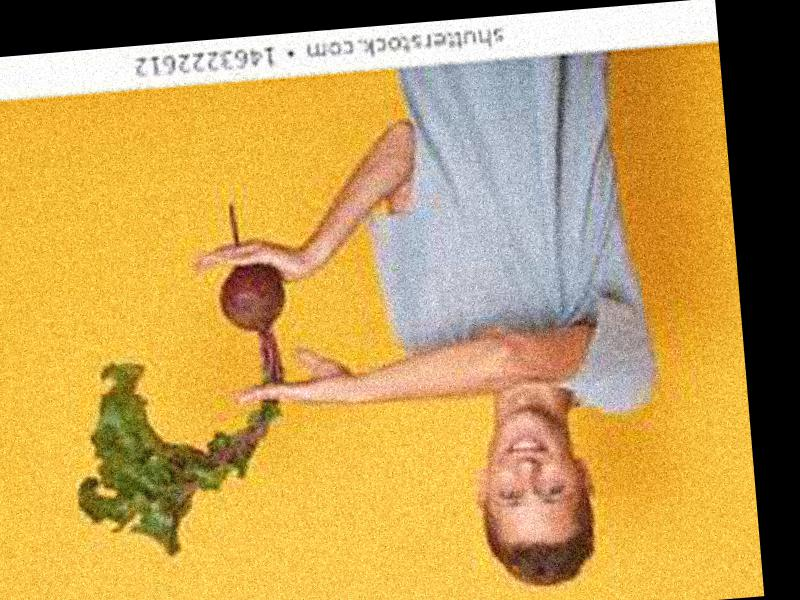Beet: (54, 201, 305, 563)
